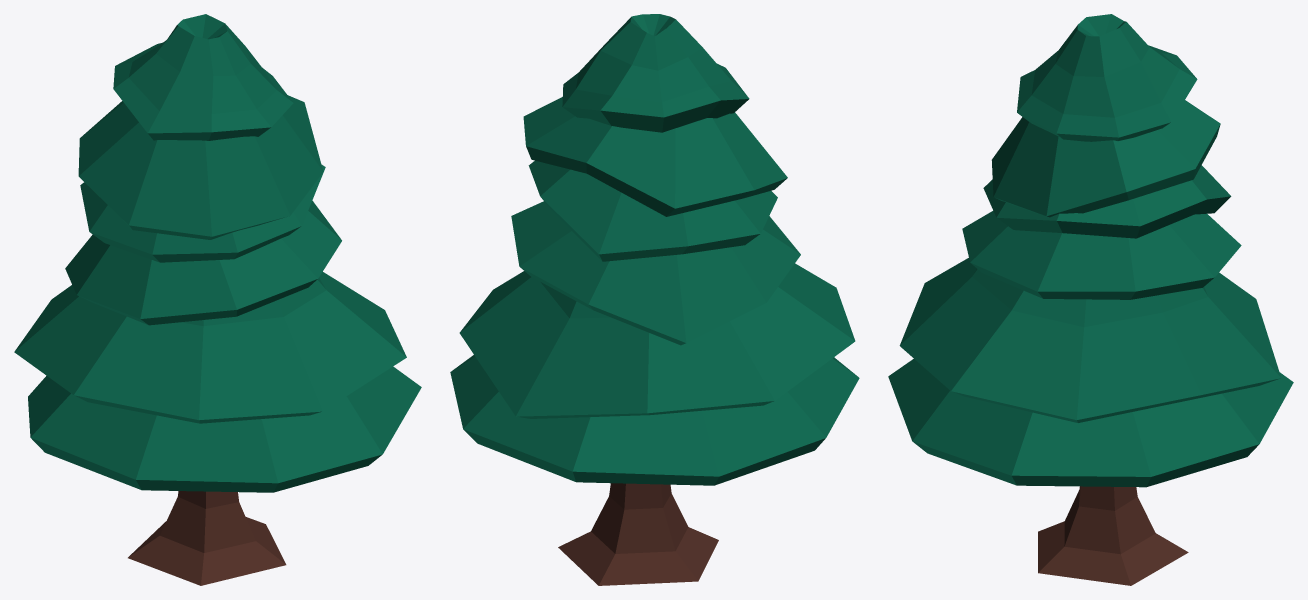
The model's file is tree_1.fbx.
3 renders of one model, left to right at view 1: azimuth 30°, elevation 25°; view 2: azimuth 150°, elevation 25°; view 3: azimuth 270°, elevation 25°, orthographic. The views are drawn at different scales.
Parts seen in each view (by area): view 1: Tree_Bottom1, Tree_Bottom1.001; view 2: Tree_Bottom1, Tree_Bottom1.001; view 3: Tree_Bottom1, Tree_Bottom1.001.
Part boxes in pixels (bbox=[...]): Tree_Bottom1: bbox=[14, 14, 421, 492]; Tree_Bottom1.001: bbox=[128, 491, 286, 585]; Tree_Bottom1: bbox=[450, 14, 859, 485]; Tree_Bottom1.001: bbox=[558, 483, 718, 585]; Tree_Bottom1: bbox=[888, 14, 1293, 487]; Tree_Bottom1.001: bbox=[1038, 486, 1188, 585].
Bounding box in the file's own units: 189 × 277 × 193.
